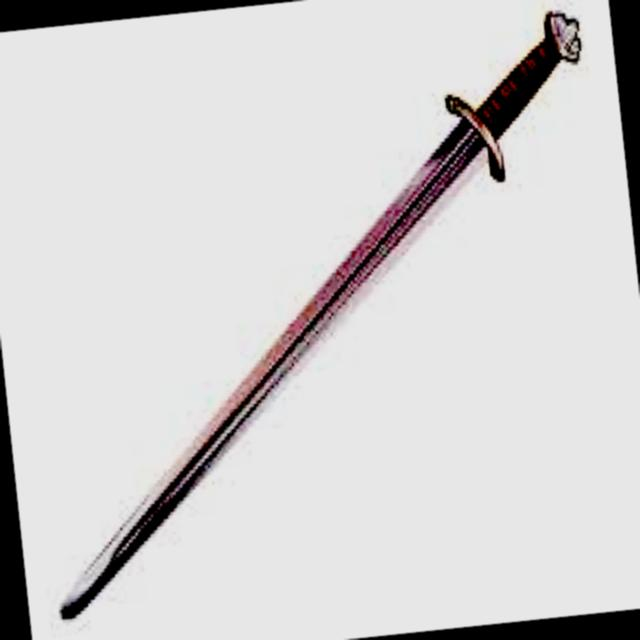long sword: (2, 4, 634, 620)
